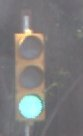Green: (11, 26, 53, 128)
